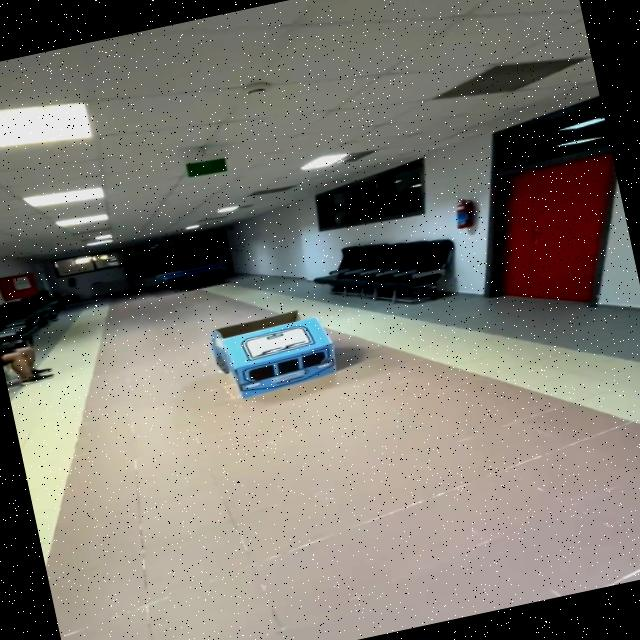blue_car: (187, 289, 362, 411)
